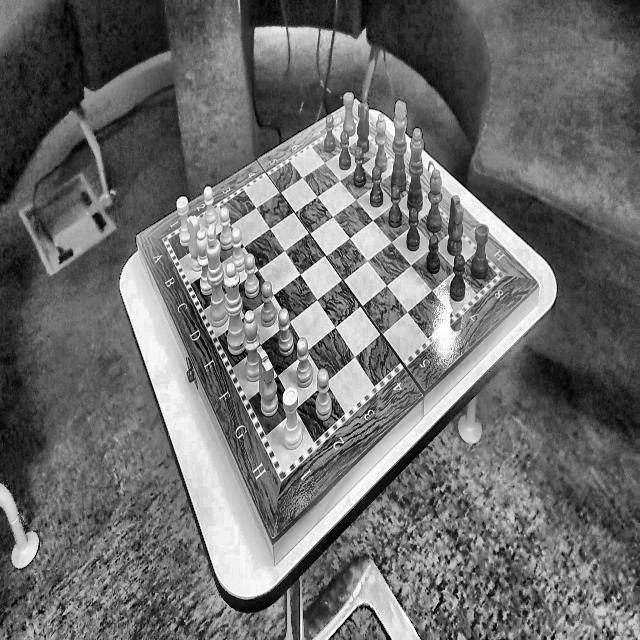chessboard: (171, 123, 497, 470)
